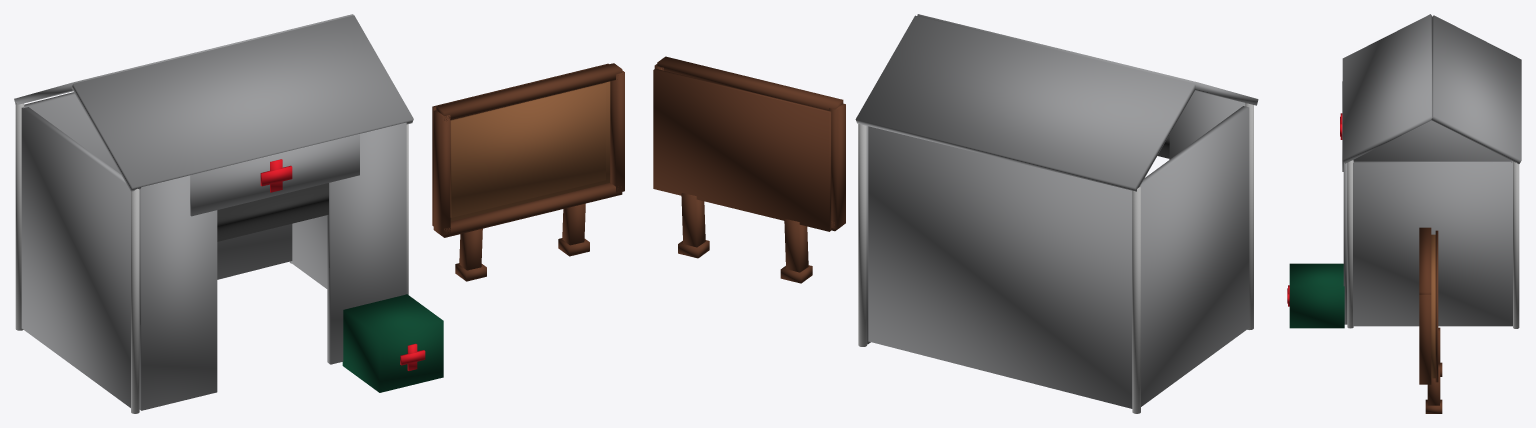
Rendered from medicaltent2.glb.
The picture shows the model from 3 angles, left to right: view 1: azimuth 30°, elevation 25°; view 2: azimuth 150°, elevation 25°; view 3: azimuth 270°, elevation 25°; orthographic projection. The views are drawn at different scales.
Parts seen in each view (by area): view 1: Left Roof, Left Wall, Left Curtain, Blank_Announcement_Surface, Right Curtain, Medical Supply Crate, Banner, Back Wall, Dark Entrance, Top_Board_Frame, Top_Board_Frame.001, Left_Board_Frame (+8 smaller); view 2: Back Wall, Right Roof, Left Wall, Board_Back_Frame, Top_Board_Frame, Left Curtain, Tent Pole.001, Tent Pole.003, Left_Board_Frame, Left Roof, Large_Wooden_Post.001, Tent Pole (+2 smaller); view 3: Right Wall, Left Roof, Right Roof, Medical Supply Crate, Left Wall, Right_Board_Frame, Tent Pole.003, Tent Pole.002, Top_Board_Frame, Right Curtain, Large_Announcement_Board, Board_Back_Frame (+1 smaller).
Boxes of the visible parts, left/top/right/bottom form: Left Roof: left=71, top=15, right=413, bottom=191; Left Wall: left=21, top=107, right=130, bottom=407; Left Curtain: left=139, top=175, right=217, bottom=410; Blank_Announcement_Surface: left=450, top=83, right=605, bottom=217; Right Curtain: left=327, top=122, right=406, bottom=364; Medical Supply Crate: left=342, top=294, right=443, bottom=392; Banner: left=190, top=134, right=359, bottom=216; Back Wall: left=22, top=92, right=292, bottom=279; Dark Entrance: left=217, top=183, right=328, bottom=241; Top_Board_Frame: left=436, top=63, right=622, bottom=120; Top_Board_Frame.001: left=441, top=182, right=622, bottom=237; Left_Board_Frame: left=433, top=110, right=450, bottom=235; Back Wall: left=868, top=126, right=1132, bottom=408; Right Roof: left=855, top=15, right=1195, bottom=191; Left Wall: left=1140, top=106, right=1249, bottom=406; Board_Back_Frame: left=653, top=68, right=831, bottom=231; Top_Board_Frame: left=657, top=56, right=843, bottom=110; Left Curtain: left=1169, top=90, right=1245, bottom=159; Tent Pole.001: left=1132, top=186, right=1140, bottom=413; Tent Pole.003: left=858, top=124, right=867, bottom=346; Left_Board_Frame: left=829, top=103, right=845, bottom=229; Left Roof: left=917, top=14, right=1258, bottom=105; Large_Wooden_Post.001: left=681, top=193, right=705, bottom=247; Tent Pole: left=1245, top=103, right=1253, bottom=329; Right Wall: left=1353, top=161, right=1512, bottom=326; Left Roof: left=1342, top=14, right=1432, bottom=163; Right Roof: left=1431, top=15, right=1521, bottom=163; Medical Supply Crate: left=1289, top=263, right=1344, bottom=328; Left Wall: left=1353, top=120, right=1510, bottom=160; Right_Board_Frame: left=1419, top=294, right=1431, bottom=383; Tent Pole.003: left=1513, top=161, right=1519, bottom=328; Tent Pole.002: left=1347, top=160, right=1353, bottom=328; Top_Board_Frame: left=1419, top=227, right=1431, bottom=294; Right Curtain: left=1343, top=162, right=1347, bottom=324; Large_Announcement_Board: left=1431, top=234, right=1435, bottom=378; Board_Back_Frame: left=1435, top=230, right=1438, bottom=382.
Bounding box in the file's own units: 6.45 × 3.3 × 3.25.
